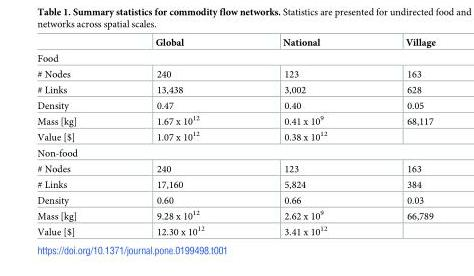table: (36, 37, 434, 236)
table column: (115, 37, 243, 236), (243, 37, 365, 236), (36, 37, 115, 236), (365, 37, 434, 236)
table column header: (36, 37, 434, 50)
table projected row header: (36, 50, 434, 66), (36, 144, 434, 160)
table row: (36, 50, 434, 66), (36, 81, 434, 97), (36, 112, 434, 128), (36, 128, 434, 144), (36, 144, 434, 160), (36, 160, 434, 176), (36, 176, 434, 192), (36, 66, 434, 81), (36, 97, 434, 112), (36, 192, 434, 207), (36, 207, 434, 222), (36, 222, 434, 236), (36, 37, 434, 50)
